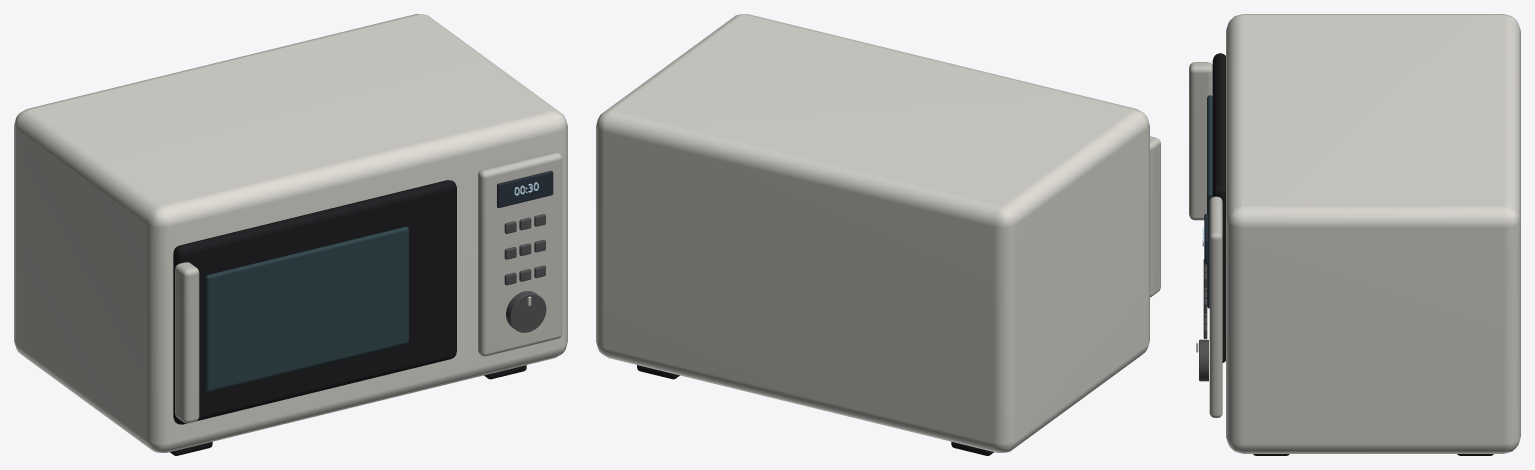
Rendered from microwave.glb.
The picture shows the model from 3 angles, left to right: view 1: azimuth 30°, elevation 25°; view 2: azimuth 150°, elevation 25°; view 3: azimuth 270°, elevation 25°; orthographic projection.
Visible parts, largest first — view 1: SM_Microwave_Button.002; view 2: SM_Microwave_Button.002; view 3: SM_Microwave_Button.002.
Part boxes in pixels (left/top/right/bottom): SM_Microwave_Button.002: left=14, top=14, right=567, bottom=455; SM_Microwave_Button.002: left=596, top=14, right=1160, bottom=455; SM_Microwave_Button.002: left=1189, top=14, right=1520, bottom=455.
Bounding box in the file's own units: 0.55 × 0.3266 × 0.3771.
